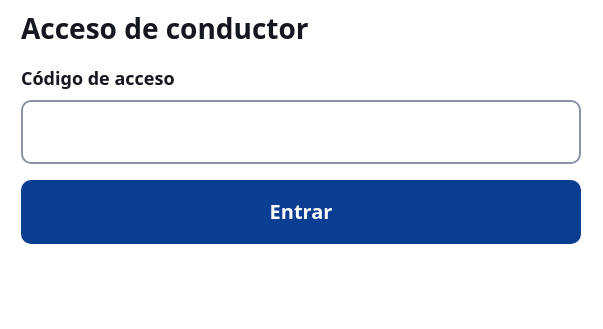
Test case: LoginPage › [driver_ui.AC-01] with a 429 tells how many minutes to wait, from Retry-After
Type "12345678" into the field labelled "Código de acceso" at (301, 132), box left=21, top=100, right=581, bottom=164
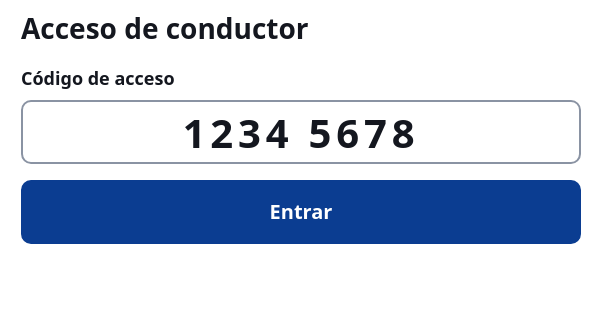
Click the button "Entrar" at (301, 212), box left=21, top=180, right=581, bottom=244
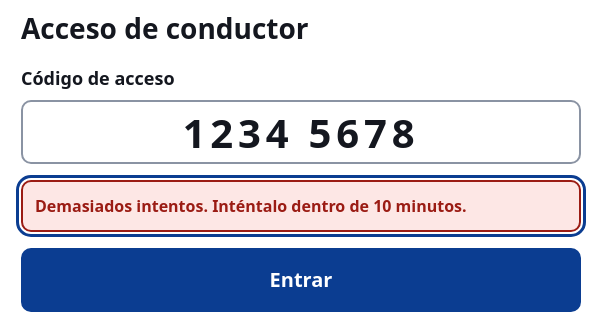
Check: the text "Demasiados intentos. Inténtalo dentro de 10 minutos." is shown, box left=21, top=180, right=581, bottom=232
